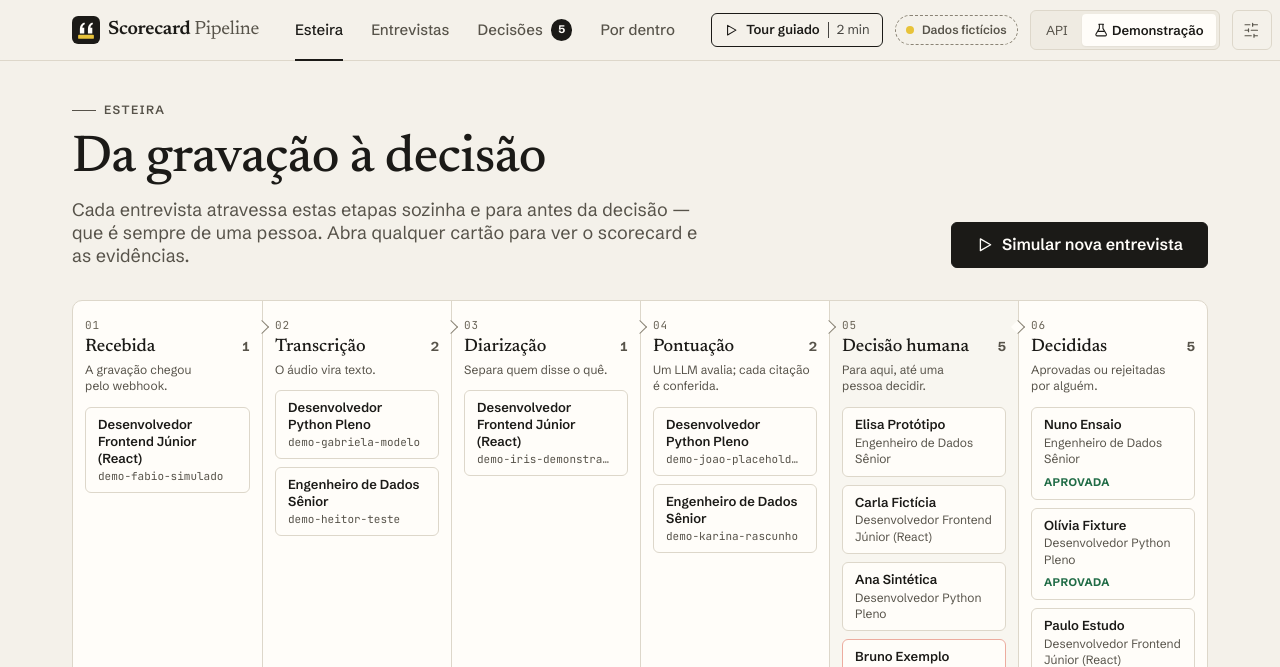
InterviewsProvider dataset identity › does not flash the board back to a skeleton on a demo action
The image size is (1280, 667).
Expected: the heading "Da gravação à decisão" is shown, [72,132,546,186]
Expected: the 3rd list item with class "bcard" is shown, [85,407,250,493]
Click the button "Simular nova entrevista": (1080, 245) [951,222,1208,268]
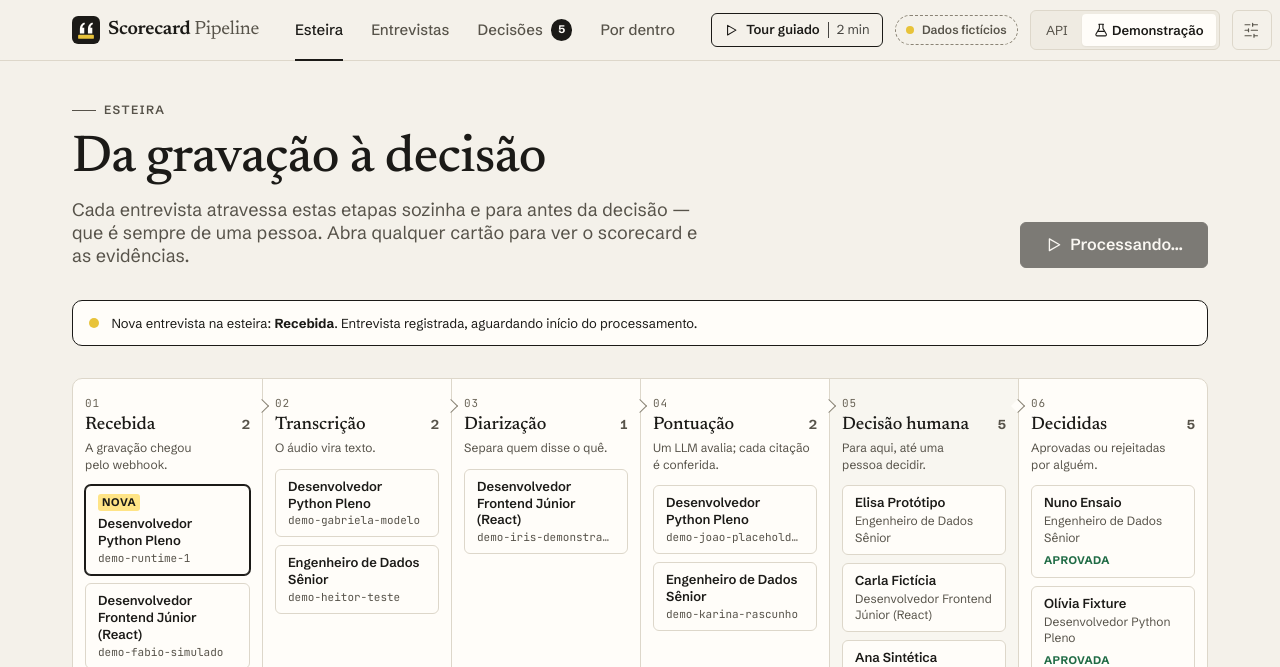
Result: the list item with class "bcard--fresh" is shown at [85,485,250,575]
